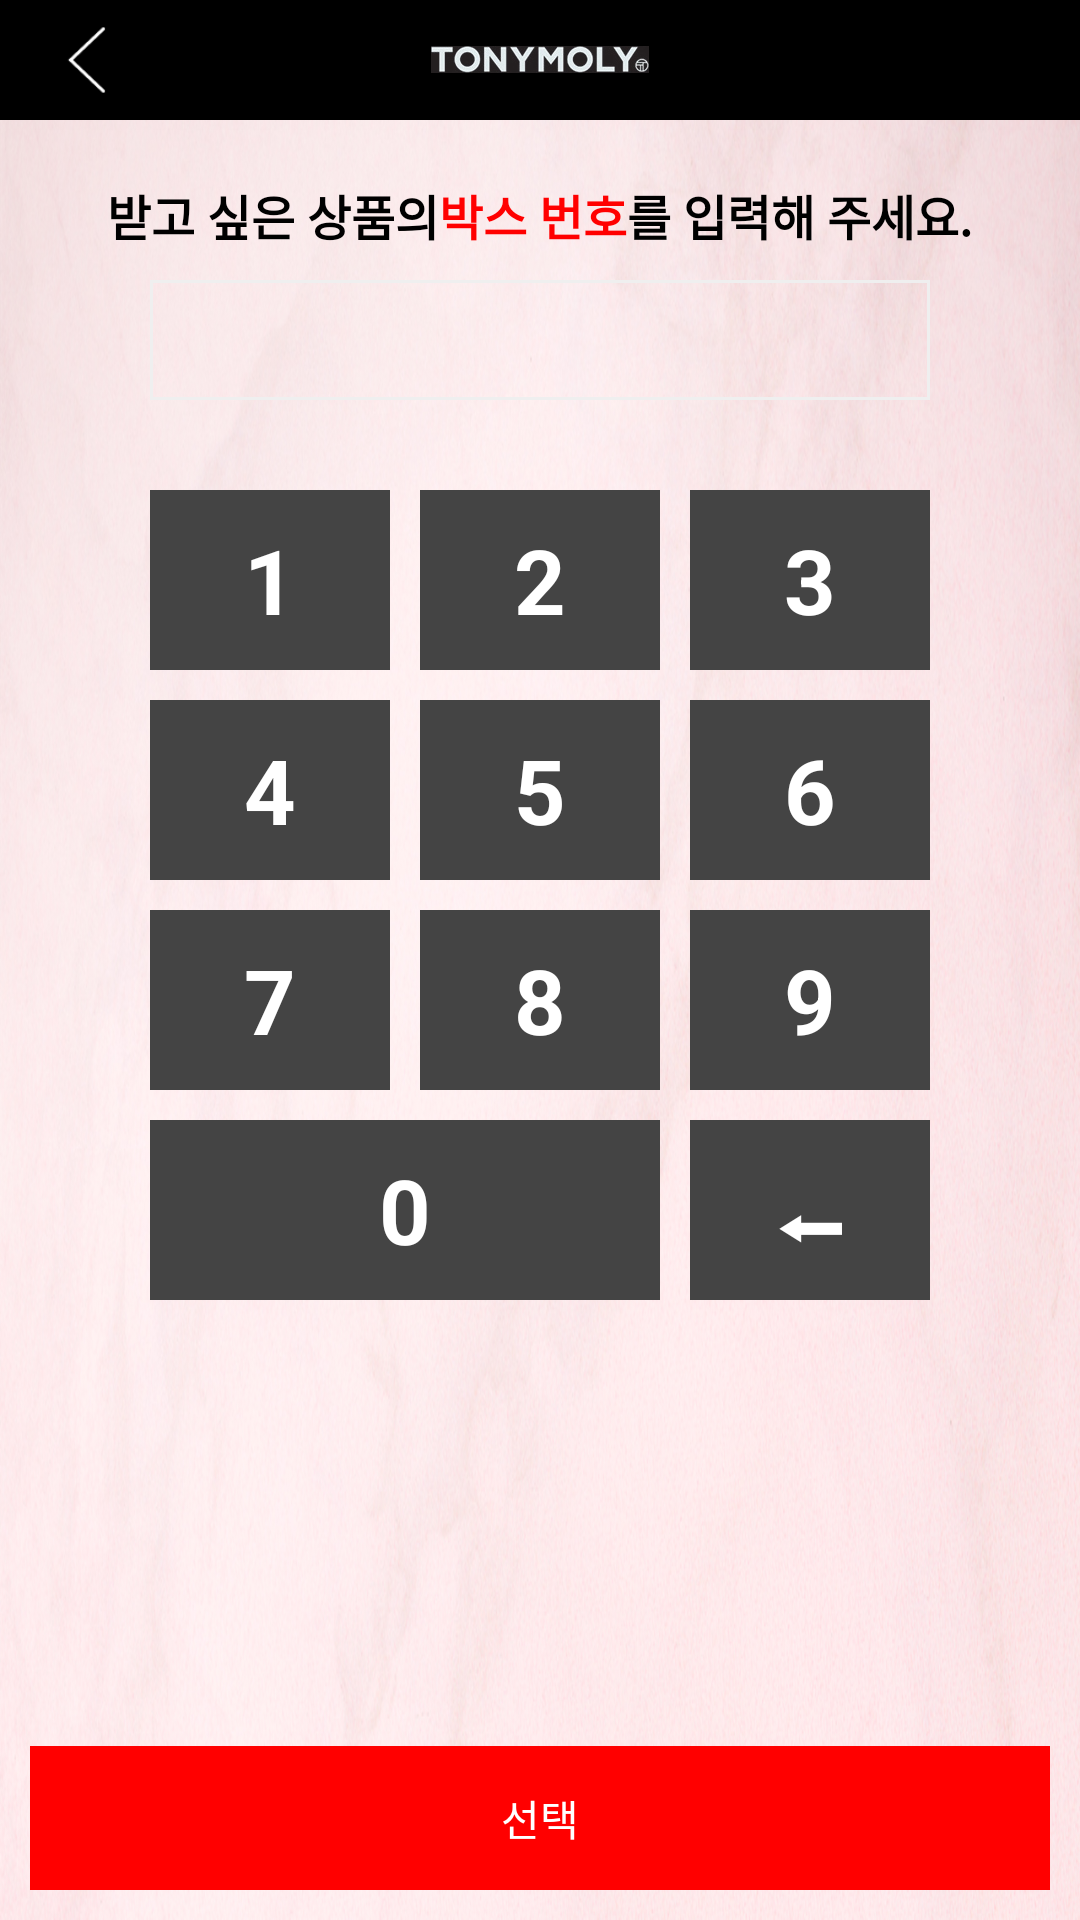

Where icons sit on this 1080*1920 app screen, as (x1,y1,x2,y2):
back: (68,27,105,93)
